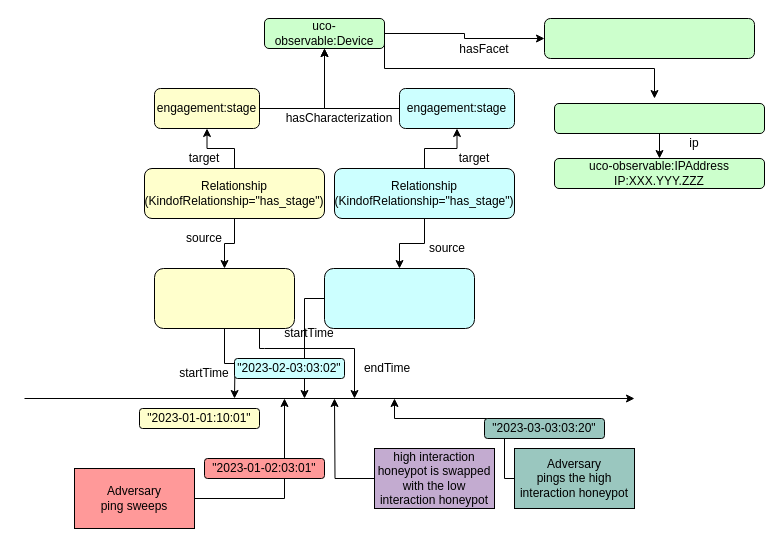
Image size: 782x546. Some labels were removed from this diagram. Here are the shapes that lost their labels. From the top down, the centre of each, then its label:
point (649, 38): uco-observable:OperatingSystemFacet name=WindowsXP
point (659, 118): uco-observable:NetworkInterfaceFacet
point (224, 298): engagement:Honeypot name="honeypot-low"
point (399, 298): engagement:Honeypot name="honeypot-high"
